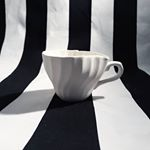cups: (37, 45, 125, 108)
